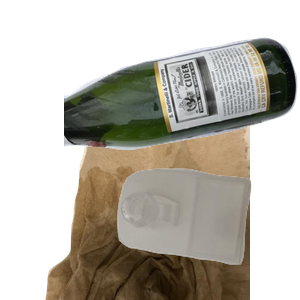glass: (64, 35, 300, 181)
metal: (99, 68, 244, 184)
plastic: (115, 166, 300, 300)
trash: (43, 120, 283, 300)
